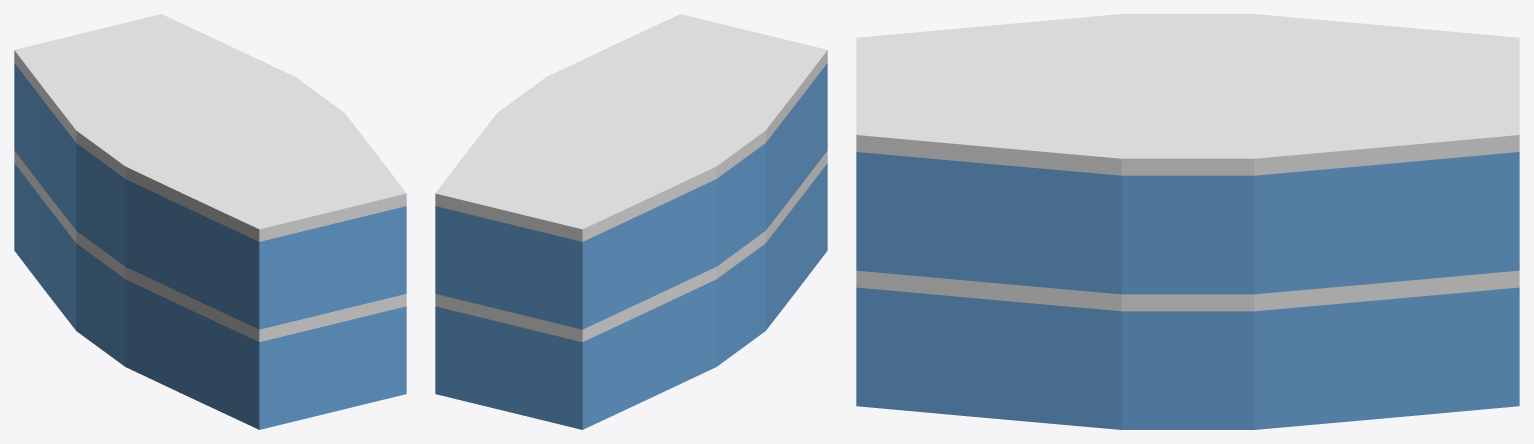
File: building_1x2_4_f.glb
The picture shows the model from 3 angles, left to right: view 1: azimuth 30°, elevation 25°; view 2: azimuth 150°, elevation 25°; view 3: azimuth 270°, elevation 25°; orthographic projection. The views are drawn at different scales.
Visible parts, largest first — view 1: Cube.001; view 2: Cube.001; view 3: Cube.001.
Boxes of the visible parts, x1,y1,x2,y2 form: Cube.001: [14, 14, 406, 429]; Cube.001: [435, 14, 827, 429]; Cube.001: [856, 14, 1519, 429].
Size of the model in its own units: 1.83 by 1.6 by 3.55.
